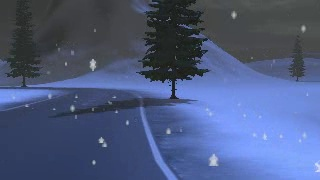Lane: (0, 86, 173, 179)
